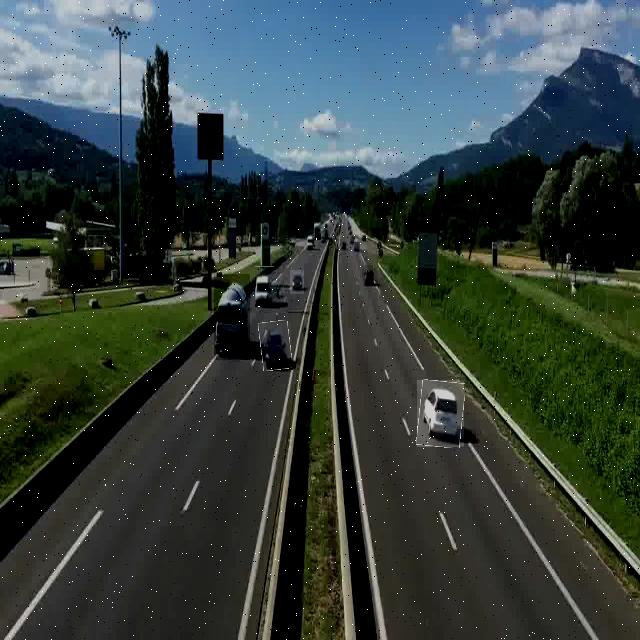Car: (417, 380, 464, 447), (260, 322, 291, 370), (256, 266, 276, 307), (290, 270, 304, 294), (362, 265, 374, 287)
Truck: (214, 274, 250, 360)
